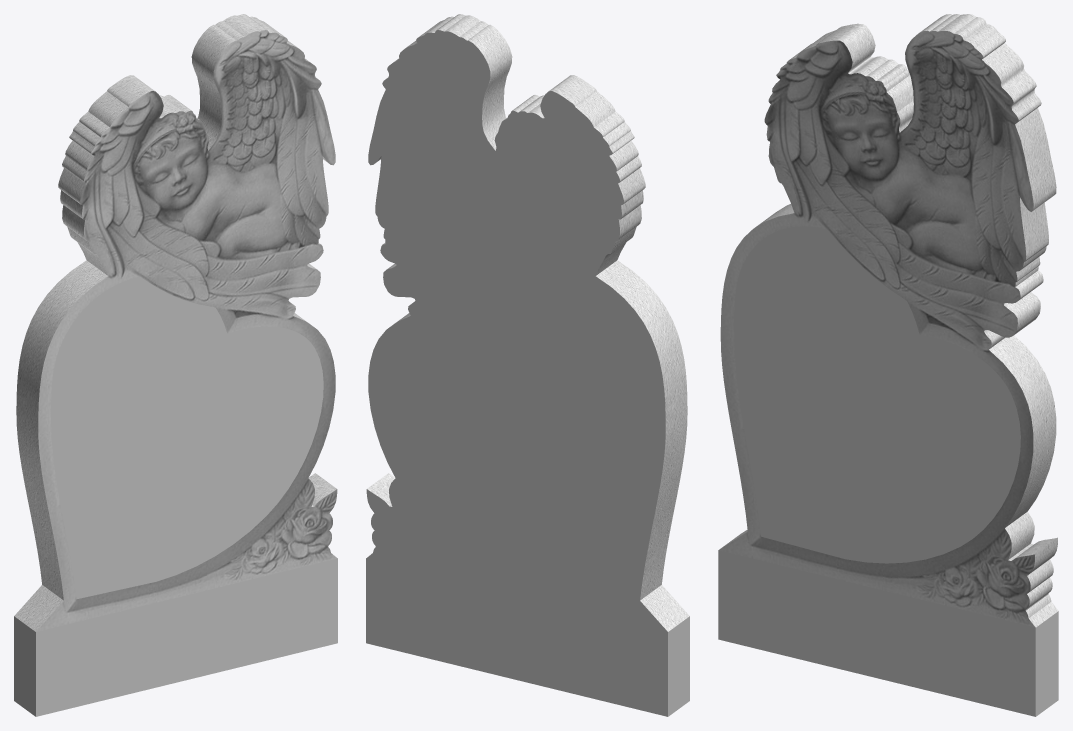
Rendered from cnb19aefc021_tkf.glb.
The picture shows the model from 3 angles, left to right: view 1: azimuth 30°, elevation 25°; view 2: azimuth 150°, elevation 25°; view 3: azimuth 330°, elevation 25°; orthographic projection. The views are drawn at different scales.
Visible parts, largest first — view 1: Pam-d02-016, Pam-d02-016_2_notexture; view 2: Pam-d02-016, Pam-d02-016_2_notexture; view 3: Pam-d02-016, Pam-d02-016_2_notexture.
Part boxes in pixels (<box>): Pam-d02-016: <box>14,276,337,716</box>; Pam-d02-016_2_notexture: <box>14,14,337,631</box>; Pam-d02-016: <box>366,30,689,716</box>; Pam-d02-016_2_notexture: <box>367,14,689,631</box>; Pam-d02-016: <box>718,226,1058,716</box>; Pam-d02-016_2_notexture: <box>718,14,1058,627</box>.
Bounding box in the file's own units: 0.4 × 0.8 × 0.05.
Materials: 1 (1 with a texture image).
